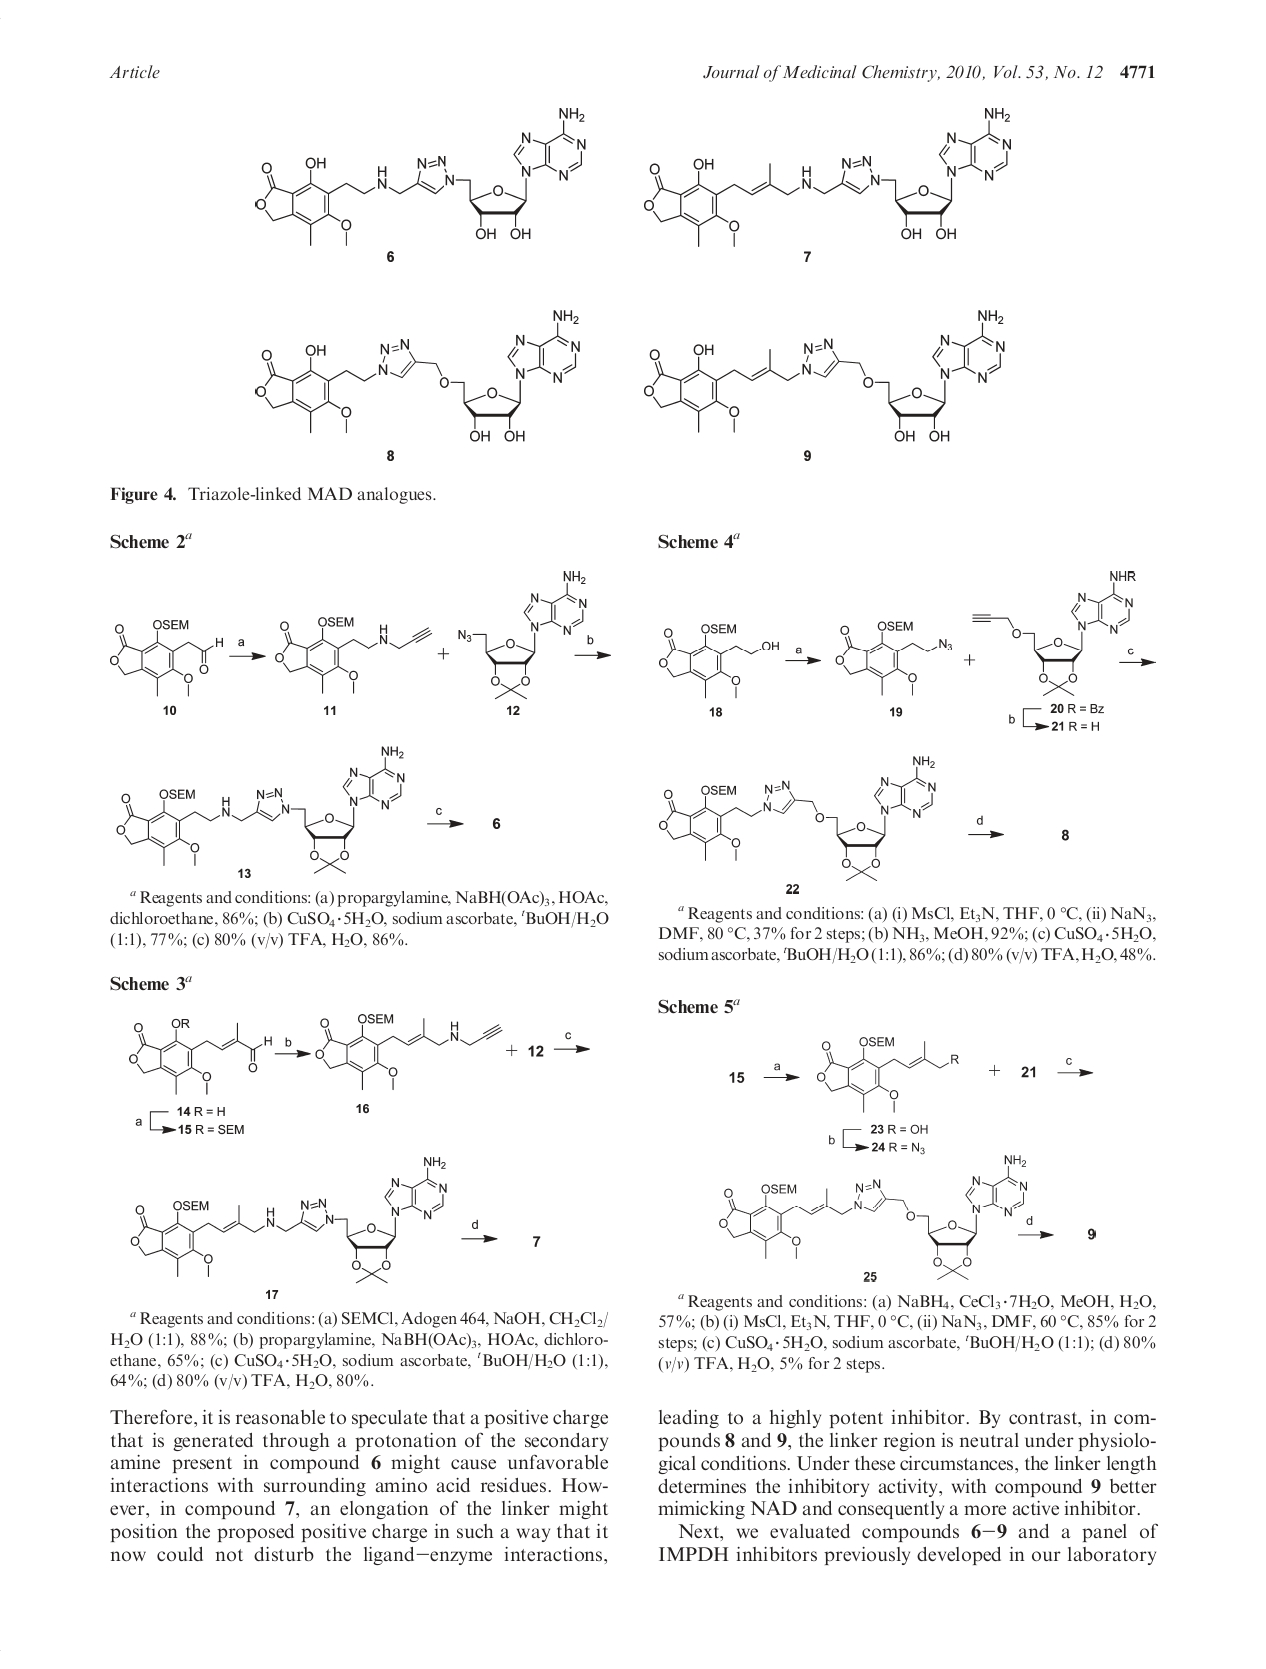exist_molecular: (642, 106, 1016, 246), (642, 307, 1009, 444), (251, 105, 590, 247), (253, 307, 578, 444), (132, 1154, 452, 1283), (715, 1150, 1031, 1279), (116, 743, 408, 870), (658, 753, 939, 882), (973, 568, 1138, 698), (456, 564, 593, 700), (313, 1008, 503, 1093), (269, 610, 434, 700), (125, 1017, 273, 1100), (814, 1036, 961, 1113), (656, 622, 781, 701), (832, 617, 955, 697), (110, 617, 229, 700)
